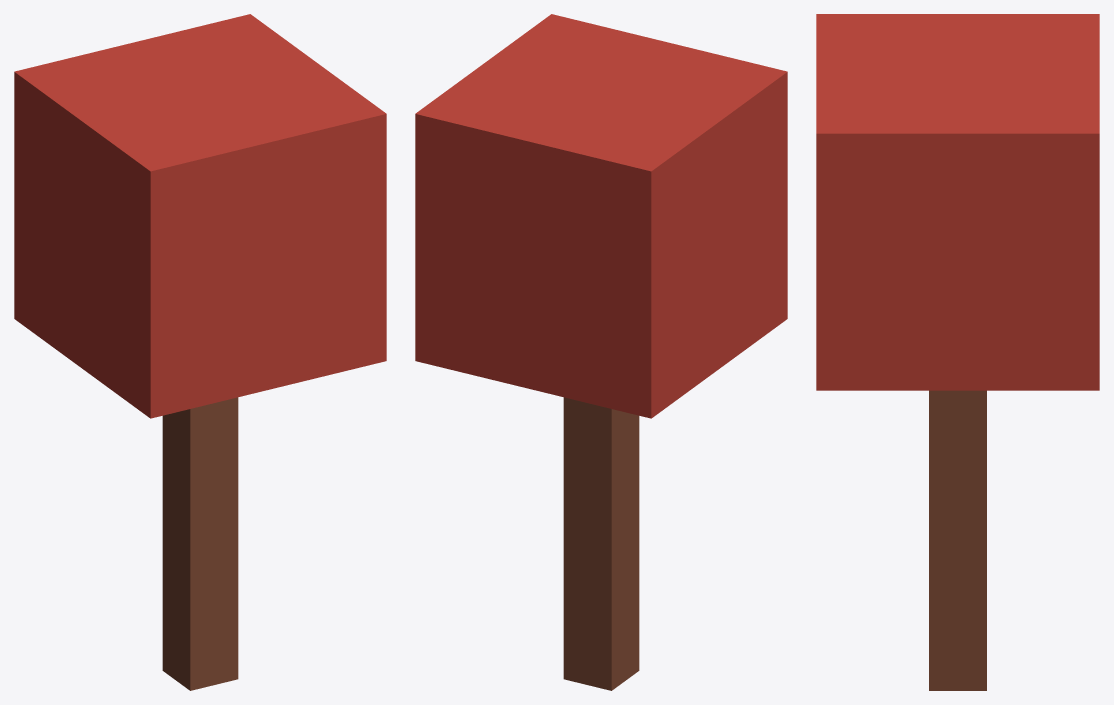
File: Tree_47_summer_red_mat.fbx
The picture shows the model from 3 angles, left to right: view 1: azimuth 30°, elevation 25°; view 2: azimuth 150°, elevation 25°; view 3: azimuth 270°, elevation 25°; orthographic projection. The views are drawn at different scales.
Visible parts, largest first — view 1: Tree_47_summer_red_mat; view 2: Tree_47_summer_red_mat; view 3: Tree_47_summer_red_mat.
Boxes of the visible parts, x1,y1,x2,y2 form: Tree_47_summer_red_mat: [14, 14, 386, 690]; Tree_47_summer_red_mat: [415, 14, 787, 690]; Tree_47_summer_red_mat: [816, 14, 1099, 690].
Bounding box in the file's own units: 72.7 × 171 × 72.7.
